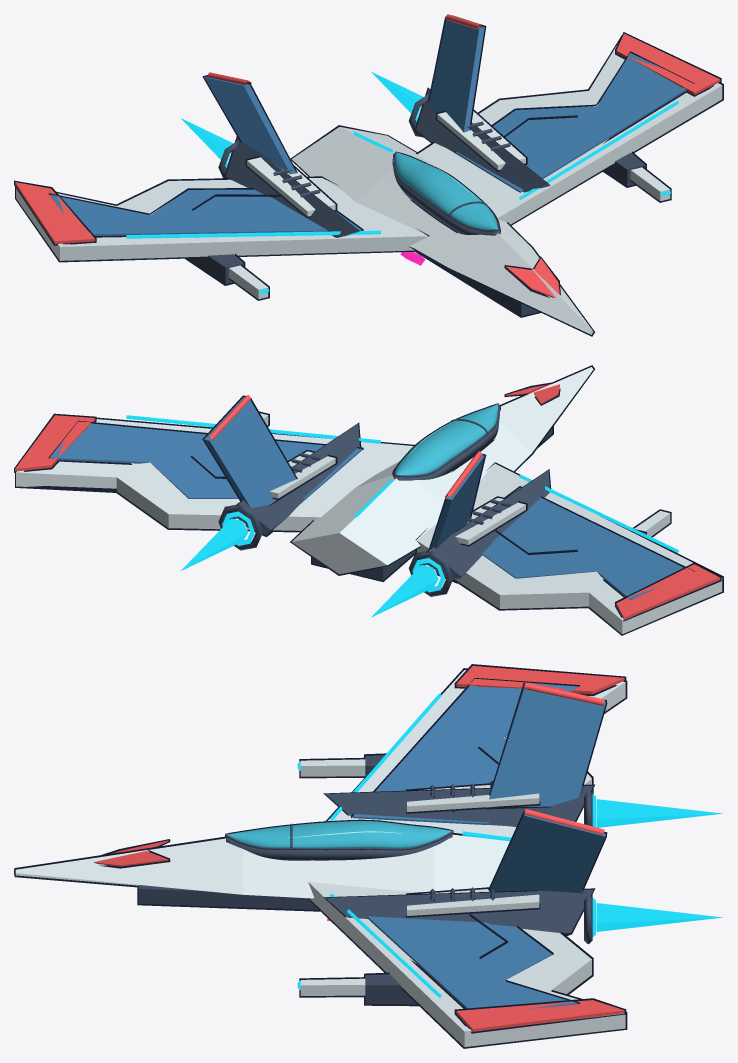
The model's file is bv01_kestrel.glb.
The picture shows the model from 3 angles, top to bottom: view 1: azimuth 30°, elevation 25°; view 2: azimuth 150°, elevation 25°; view 3: azimuth 270°, elevation 25°; orthographic projection. The views are drawn at different scales.
Visible parts, largest first — view 1: 01 | Monocoque blade fuselage, PORT | Swept ceramic wing, STARBOARD | Swept ceramic wing, STARBOARD | Cobalt flight panel, PORT | Cobalt flight panel, STARBOARD | Canted stabilizer, PORT | Canted stabilizer, 04 | Canopy glass, STARBOARD | Engine nacelle, PORT | Engine nacelle, PORT | Coral wing tip, STARBOARD | Coral wing tip (+13 smaller); view 2: 01 | Monocoque blade fuselage, STARBOARD | Swept ceramic wing, PORT | Swept ceramic wing, PORT | Cobalt flight panel, STARBOARD | Cobalt flight panel, STARBOARD | Canted stabilizer, 04 | Canopy glass, PORT | Engine nacelle, STARBOARD | Engine nacelle, PORT | Coral wing tip, STARBOARD | Coral wing tip, PORT | Canted stabilizer (+12 smaller); view 3: 01 | Monocoque blade fuselage, STARBOARD | Swept ceramic wing, STARBOARD | Cobalt flight panel, PORT | Cobalt flight panel, PORT | Canted stabilizer, STARBOARD | Canted stabilizer, STARBOARD | Engine nacelle, 04 | Canopy glass, PORT | Engine nacelle, PORT | Swept ceramic wing, STARBOARD | Coral wing tip, PORT | Coral wing tip (+12 smaller).
Boxes of the visible parts, x1,y1,x2,y2 form: 01 | Monocoque blade fuselage: (290,125,594,336); PORT | Swept ceramic wing: (15,176,429,262); STARBOARD | Swept ceramic wing: (416,35,723,225); STARBOARD | Cobalt flight panel: (454,51,694,192); PORT | Cobalt flight panel: (48,188,363,237); STARBOARD | Canted stabilizer: (427,15,486,132); PORT | Canted stabilizer: (202,75,297,174); 04 | Canopy glass: (394,151,498,231); STARBOARD | Engine nacelle: (414,87,550,192); PORT | Engine nacelle: (224,136,359,237); PORT | Coral wing tip: (14,180,96,245); STARBOARD | Coral wing tip: (615,32,721,96); 01 | Monocoque blade fuselage: (290,365,594,575); STARBOARD | Swept ceramic wing: (15,417,414,532); PORT | Swept ceramic wing: (415,462,723,635); PORT | Cobalt flight panel: (482,486,694,599); STARBOARD | Cobalt flight panel: (48,420,363,499); STARBOARD | Canted stabilizer: (202,395,301,507); 04 | Canopy glass: (394,403,498,477); PORT | Engine nacelle: (420,469,551,583); STARBOARD | Engine nacelle: (229,422,361,536); PORT | Coral wing tip: (615,562,721,621); STARBOARD | Coral wing tip: (14,413,96,472); PORT | Canted stabilizer: (429,453,486,548); 01 | Monocoque blade fuselage: (14,833,509,898); STARBOARD | Swept ceramic wing: (307,882,627,1048); STARBOARD | Cobalt flight panel: (367,916,579,1008); PORT | Cobalt flight panel: (351,678,579,824); PORT | Canted stabilizer: (485,682,607,809); STARBOARD | Canted stabilizer: (488,811,607,893); STARBOARD | Engine nacelle: (323,888,595,935); 04 | Canopy glass: (227,819,452,850); PORT | Engine nacelle: (323,784,595,826); PORT | Swept ceramic wing: (325,668,627,837); STARBOARD | Coral wing tip: (454,998,626,1033); PORT | Coral wing tip: (454,664,626,695).
Size of the model in its own units: 9.47 by 1.96 by 7.8.
